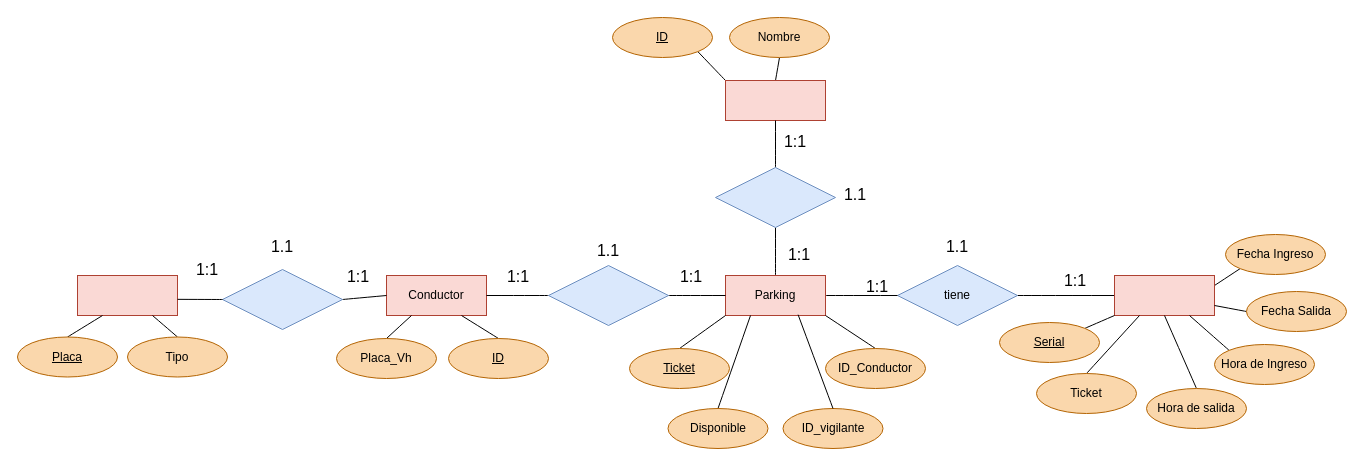
The diagram is 1364 pixels wide and 466 high, and some of its shapes have lost their labels. The shapes that lost their labels are listed below. From the top down, each one's centre as x and y in pixels, then its label:
At (x=775, y=100): "Vigilante".
At (x=775, y=197): "Cuida".
At (x=127, y=295): "Vehiculo".
At (x=282, y=299): "Conduce".
At (x=608, y=295): "Usa".
At (x=1164, y=295): "Registro".
